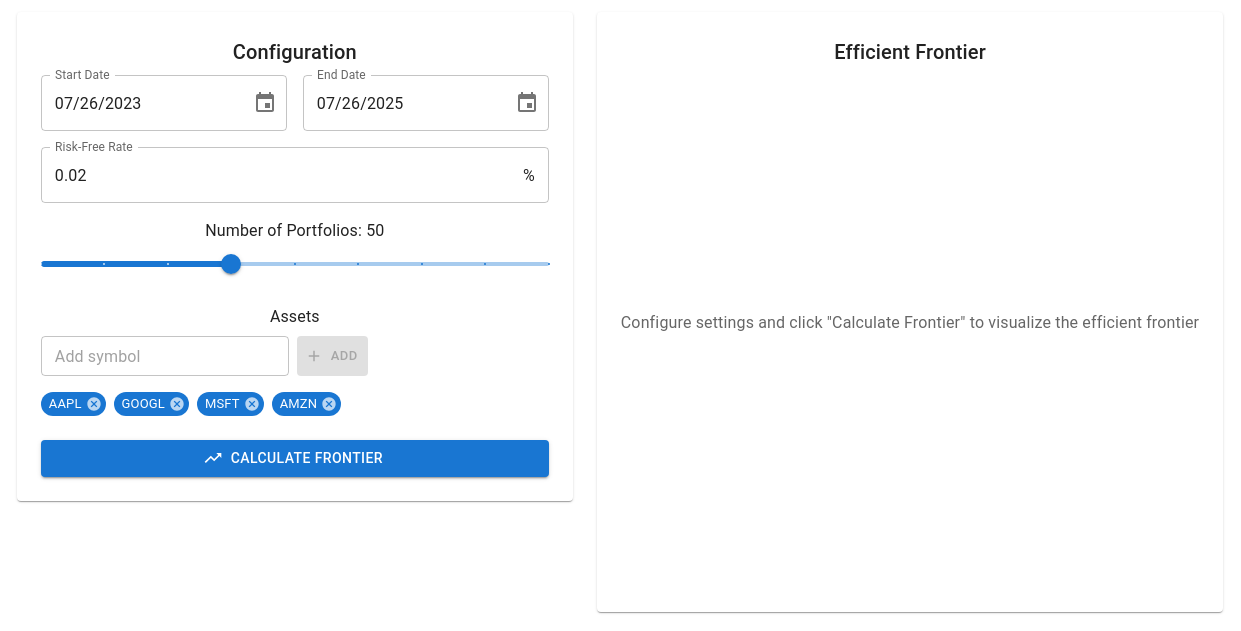
Test case: EfficientFrontierChart › updates number of portfolios with slider
This screenshot has width=1241, height=631.
# Simulate slider change
Set the slider to "80". click: (231, 264)
box: [221, 254, 241, 274]
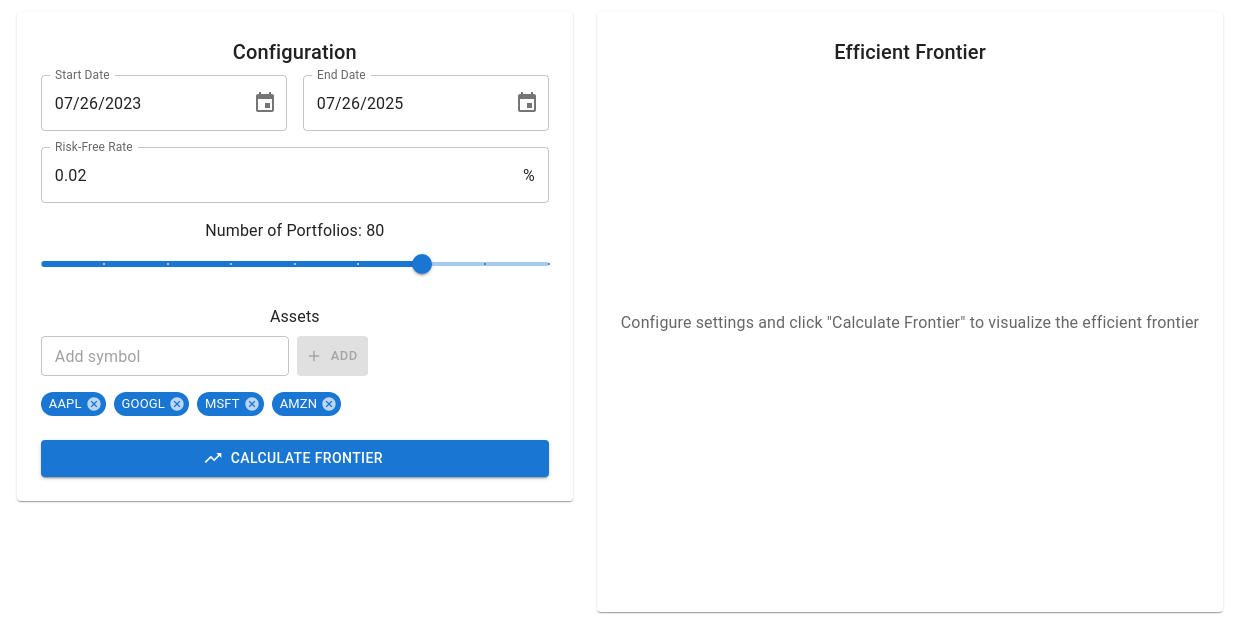
expect the text "Number of Portfolios: 80" is shown: met, box [205, 221, 384, 240]
